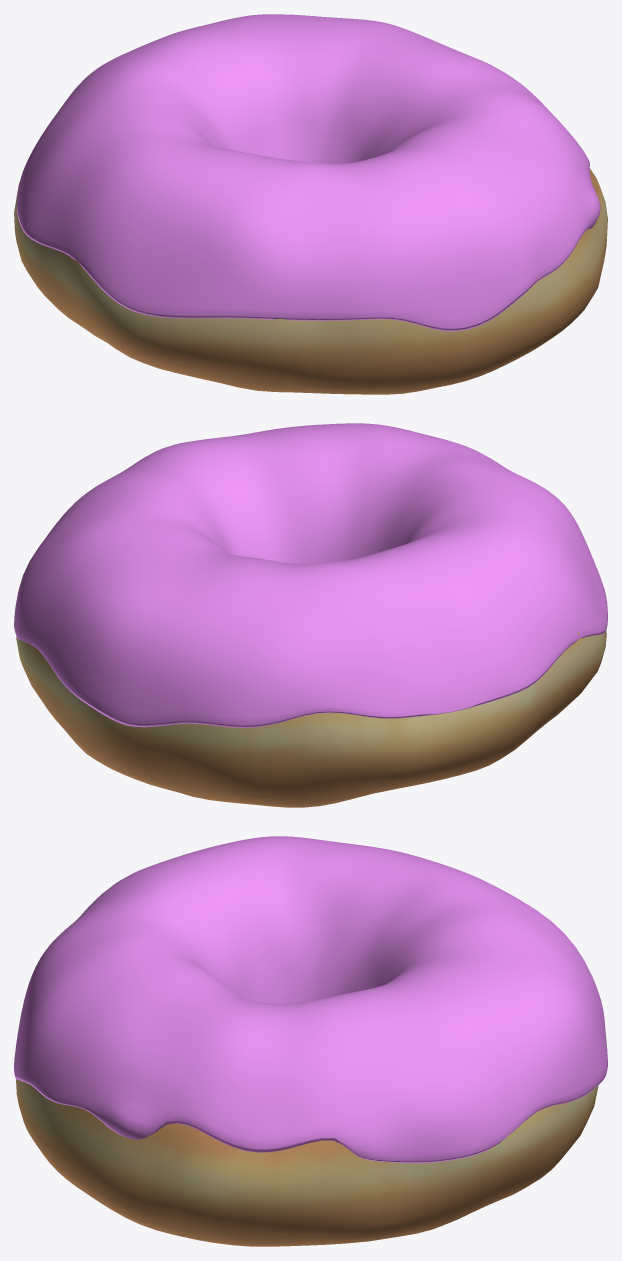
File: donut-big4.glb
3 views of the same model, one above another, from view 1: azimuth 30°, elevation 25°; view 2: azimuth 150°, elevation 25°; view 3: azimuth 270°, elevation 25° (orthographic).
Visible parts, largest first — view 1: icing, donut; view 2: icing, donut; view 3: icing, donut.
Part boxes in pixels (bbox=[...]): icing: bbox=[17, 14, 600, 331]; donut: bbox=[14, 168, 607, 394]; icing: bbox=[14, 423, 607, 727]; donut: bbox=[16, 630, 606, 807]; icing: bbox=[14, 836, 607, 1163]; donut: bbox=[16, 1079, 598, 1246].
Bounding box in the file's own units: 0.8837 × 0.3866 × 0.8814.
3 materials, 1 textured.
